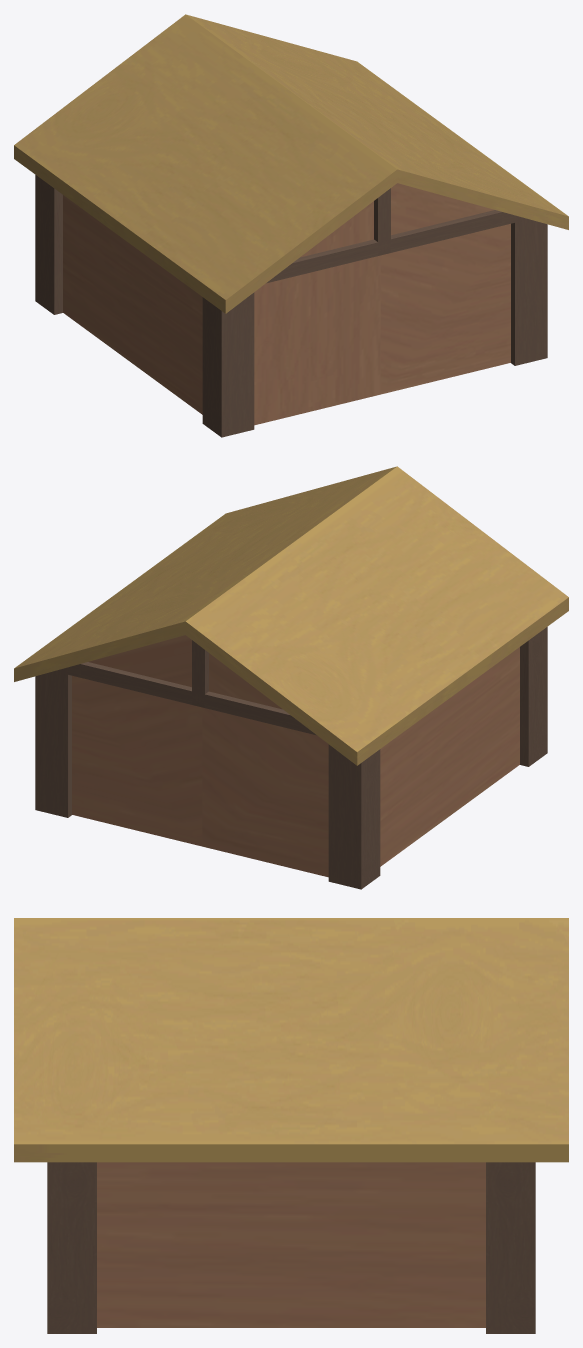
The model's file is test house thingy.fbx.
3 renders of one model, top to bottom at view 1: azimuth 30°, elevation 25°; view 2: azimuth 150°, elevation 25°; view 3: azimuth 270°, elevation 25°, orthographic. The views are drawn at different scales.
Visible parts, largest first — view 1: Cube.023, Cube.022, Cube; view 2: Cube.023, Cube.022, Cube; view 3: Cube.023, Cube.022, Cube.
Part boxes in pixels (<box>): Cube.023: <box>14,14,568,313</box>; Cube.022: <box>63,183,510,425</box>; Cube: <box>35,175,547,437</box>; Cube.023: <box>14,466,568,765</box>; Cube.022: <box>72,635,519,877</box>; Cube: <box>35,627,547,889</box>; Cube.023: <box>14,918,568,1162</box>; Cube.022: <box>97,1162,485,1327</box>; Cube: <box>47,1162,535,1333</box>.
Bounding box in the file's own units: 5246 × 3473 × 5608.
